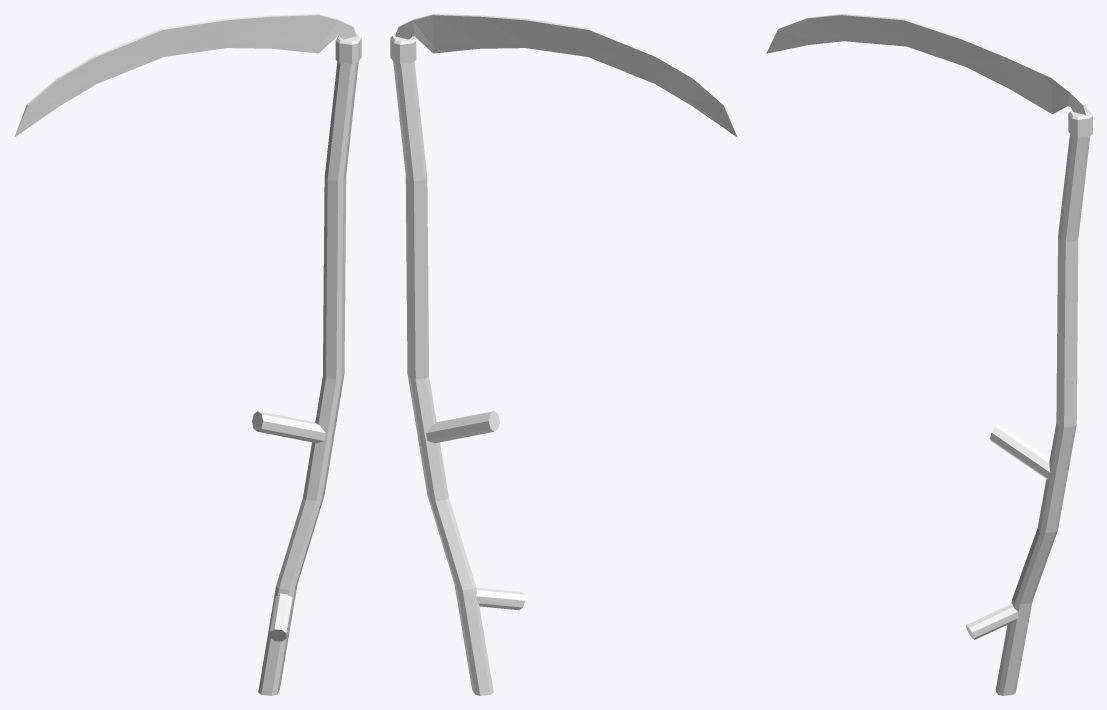
Rendered from Tool_Scythe_01.glb.
3 views of the same model, side by side, from view 1: azimuth 30°, elevation 25°; view 2: azimuth 150°, elevation 25°; view 3: azimuth 330°, elevation 25° (orthographic). The views are drawn at different scales.
Visible parts, largest first — view 1: Tool_Scythe_01; view 2: Tool_Scythe_01; view 3: Tool_Scythe_01.
Boxes of the visible parts, <box> form: Tool_Scythe_01: <box>14,14,361,695</box>; Tool_Scythe_01: <box>390,14,737,695</box>; Tool_Scythe_01: <box>766,14,1092,695</box>.
Size of the model in its own units: 0.868 by 1.65 by 0.1431.
Materials: 1 (1 with a texture image).
